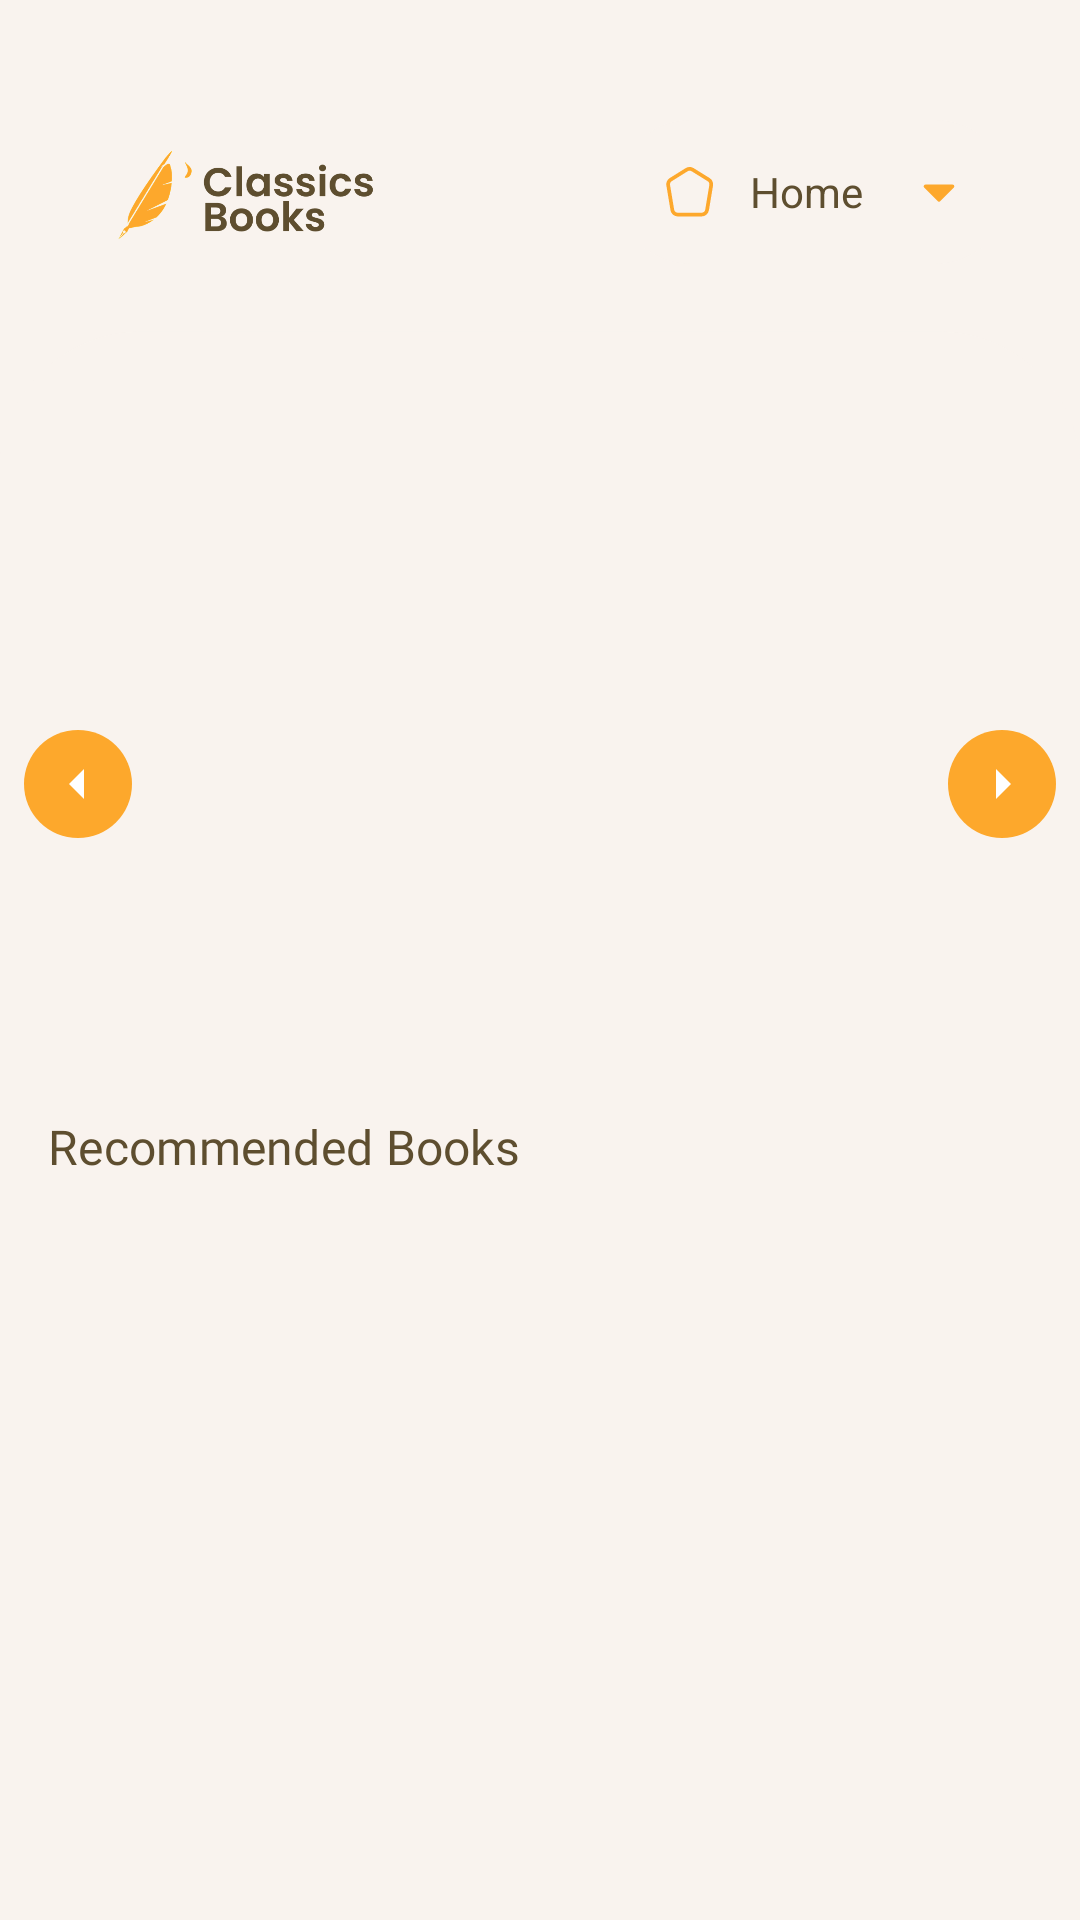

Named icons in this screenshot (1080×1920) and their bounding boxes, (x1, y1, x2, y2):
arrow down: (923, 184, 955, 202)
arrow left: (24, 730, 132, 838)
arrow right: (948, 730, 1056, 838)
